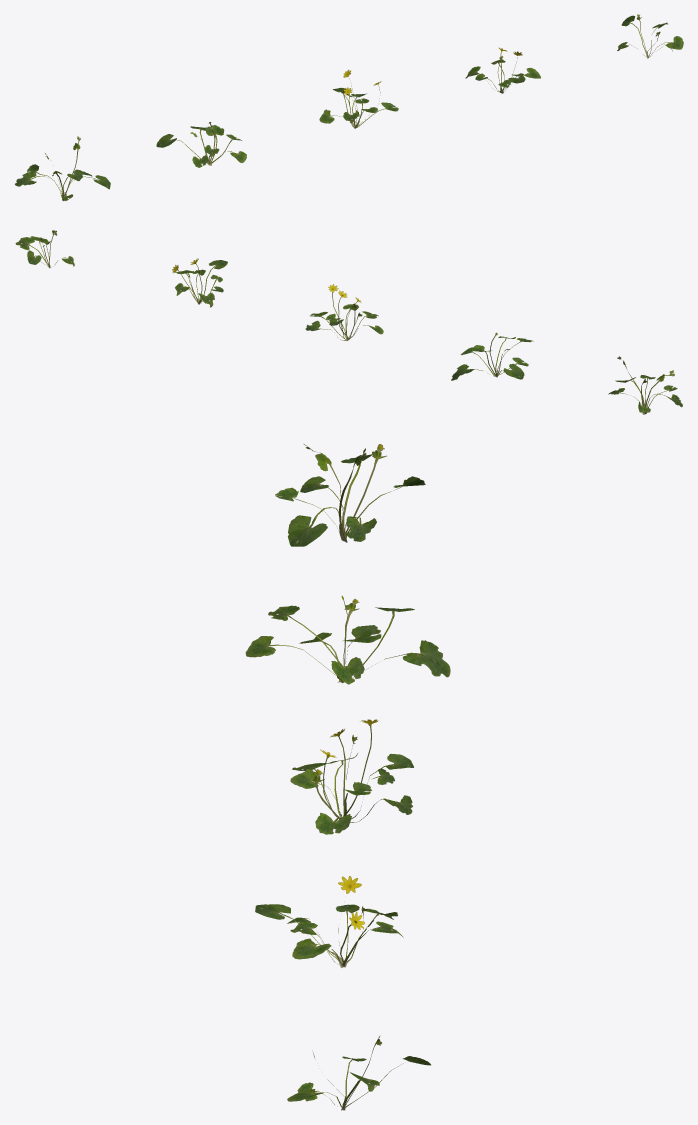
Rendered from celandine.glb.
3 views of the same model, one above another, from view 1: azimuth 30°, elevation 25°; view 2: azimuth 150°, elevation 25°; view 3: azimuth 270°, elevation 25° (orthographic). The views are drawn at different scales.
Parts seen in each view (by area): view 1: celandine_01_a_LOD2; view 2: celandine_01_a_LOD2; view 3: celandine_01_a_LOD2.
Boxes of the visible parts, left/top/right/bottom form: celandine_01_a_LOD2: left=15, top=14, right=683, bottom=200; celandine_01_a_LOD2: left=15, top=230, right=682, bottom=414; celandine_01_a_LOD2: left=245, top=443, right=450, bottom=1110.
Size of the model in its own units: 2.24 by 0.185 by 0.3106.
1 material, 1 textured.
